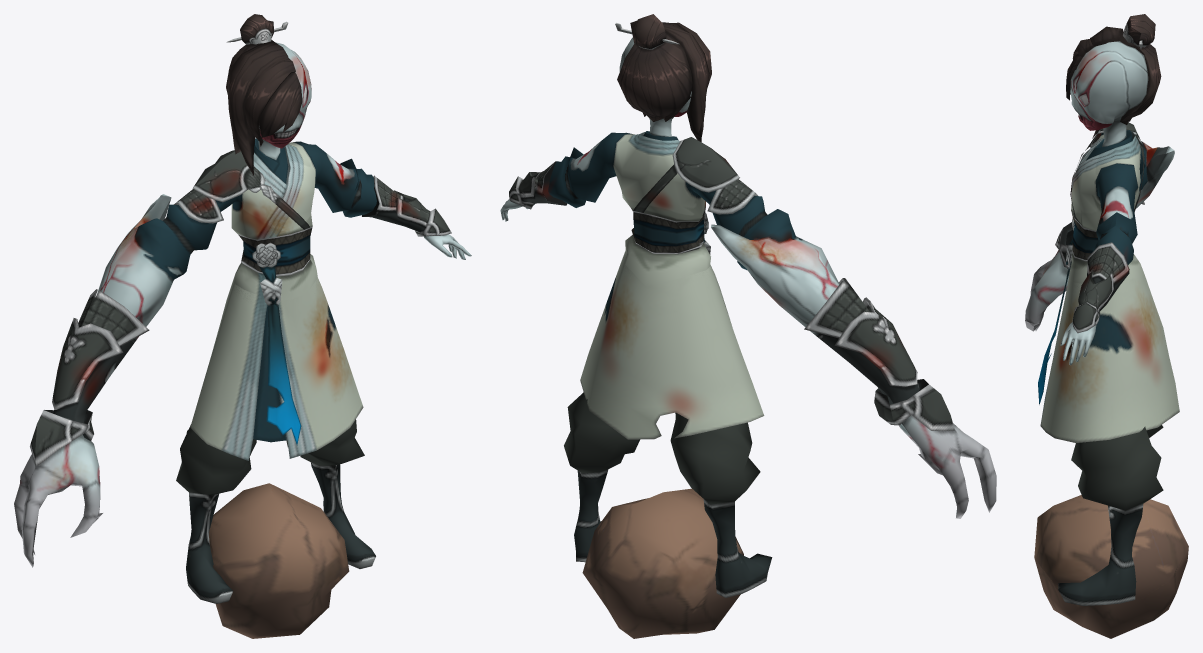
File: m_080_zombie_remotely_zhao_view.fbx
3 renders of one model, left to right at view 1: azimuth 30°, elevation 25°; view 2: azimuth 150°, elevation 25°; view 3: azimuth 270°, elevation 25°, orthographic. The views are drawn at different scales.
Parts seen in each view (by area): view 1: m_080_zombie_remotely_zhao; view 2: m_080_zombie_remotely_zhao; view 3: m_080_zombie_remotely_zhao.
Boxes of the visible parts, <box> form: m_080_zombie_remotely_zhao: <box>14,14,471,638</box>; m_080_zombie_remotely_zhao: <box>500,14,996,638</box>; m_080_zombie_remotely_zhao: <box>1025,14,1188,638</box>.
Bounding box in the file's own units: 159 × 200 × 48.19.
